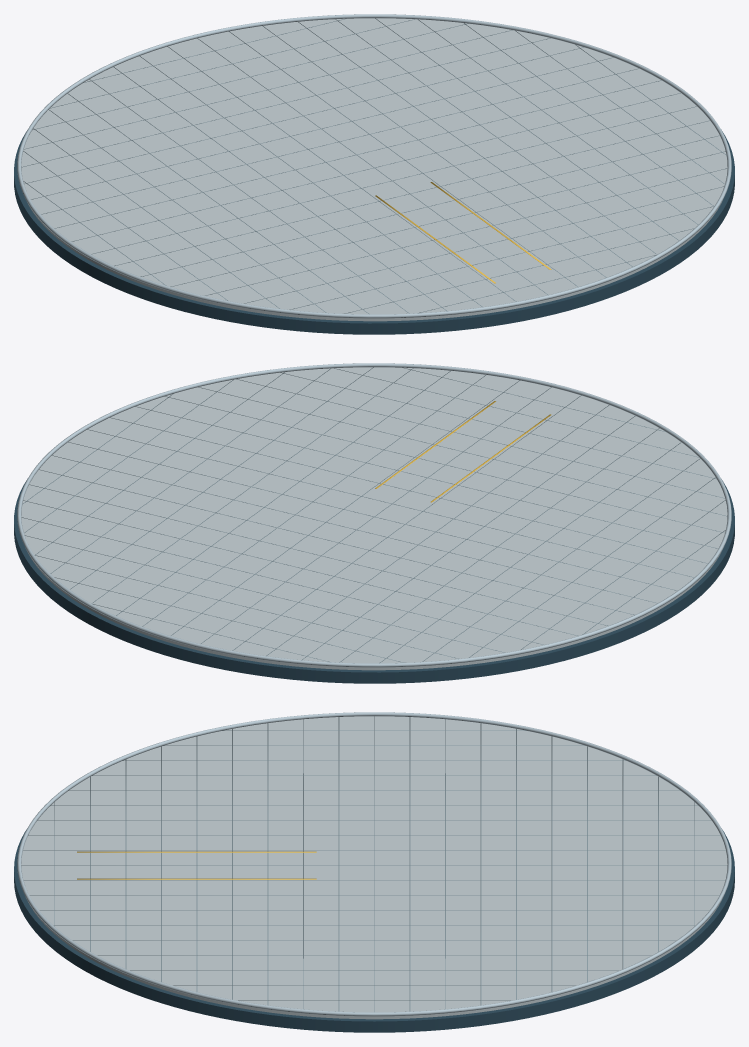
The model's file is piso-losetas.glb.
3 renders of one model, top to bottom at view 1: azimuth 30°, elevation 25°; view 2: azimuth 150°, elevation 25°; view 3: azimuth 270°, elevation 25°, orthographic.
Parts seen in each view (by area): view 1: Loseta, Junta, Base, Estructura, Guia; view 2: Loseta, Junta, Base, Estructura, Guia; view 3: Loseta, Junta, Base, Estructura, Guia.
Part boxes in pixels (box(x1,y1,x2,y2)): Loseta: box(21, 18, 727, 321); Junta: box(22, 18, 727, 314); Base: box(14, 129, 734, 334); Estructura: box(17, 14, 731, 318); Guia: box(375, 182, 551, 283); Loseta: box(21, 367, 727, 670); Junta: box(21, 367, 726, 663); Base: box(14, 478, 734, 683); Estructura: box(17, 363, 731, 667); Guia: box(375, 401, 551, 502); Loseta: box(21, 716, 727, 1019); Junta: box(22, 716, 726, 1011); Base: box(14, 828, 734, 1032); Estructura: box(17, 712, 731, 1016); Guia: box(77, 851, 316, 879).
Size of the model in its own units: 40.6 by 1.12 by 40.6.
